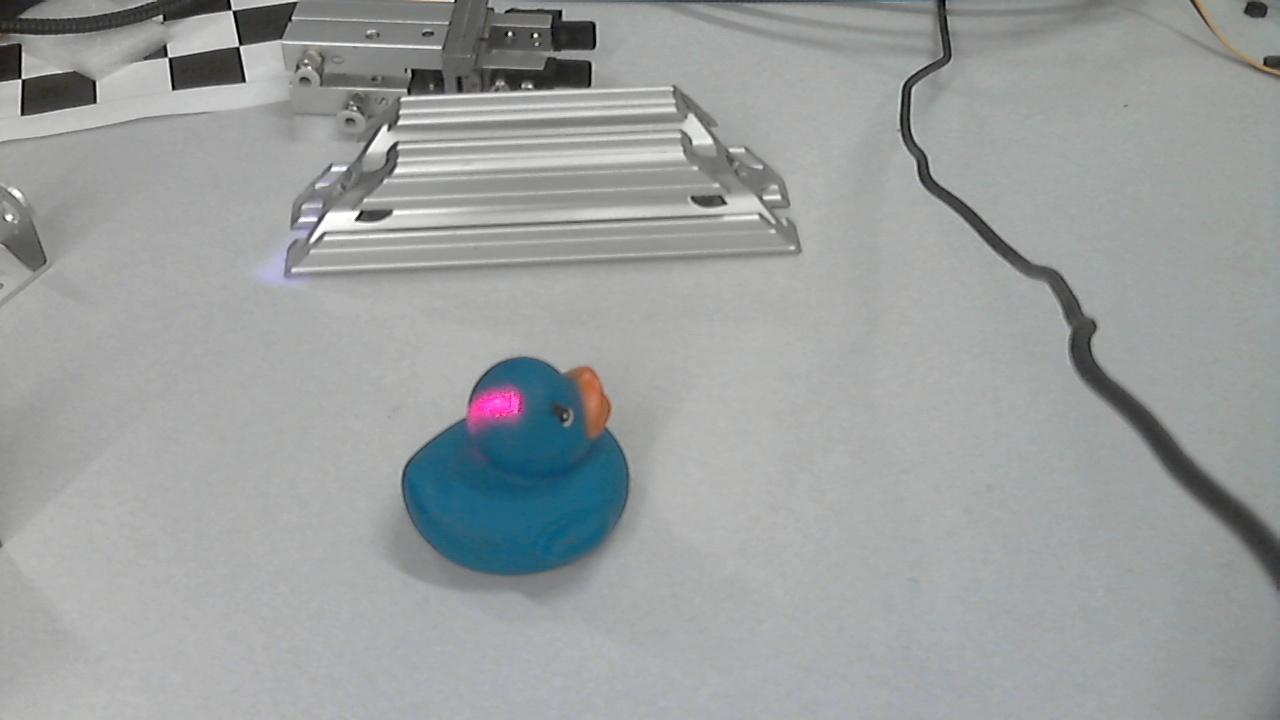Object scissors - Material metal - Pdfname tYexGlkiIXWc: (433, 375, 558, 448)
